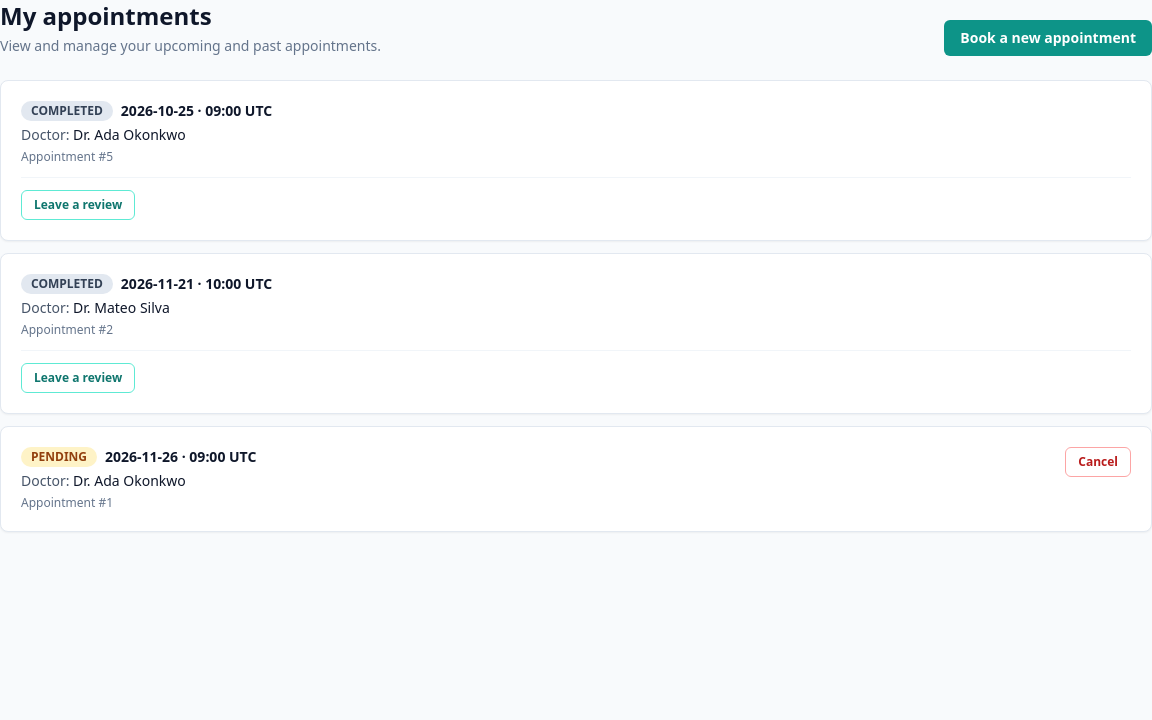
Scenario: MyAppointmentsPage › lets a patient review a completed appointment
Click the button with aria-label "leave a review for appointment 2" at (78,378), box [21,363,135,393]
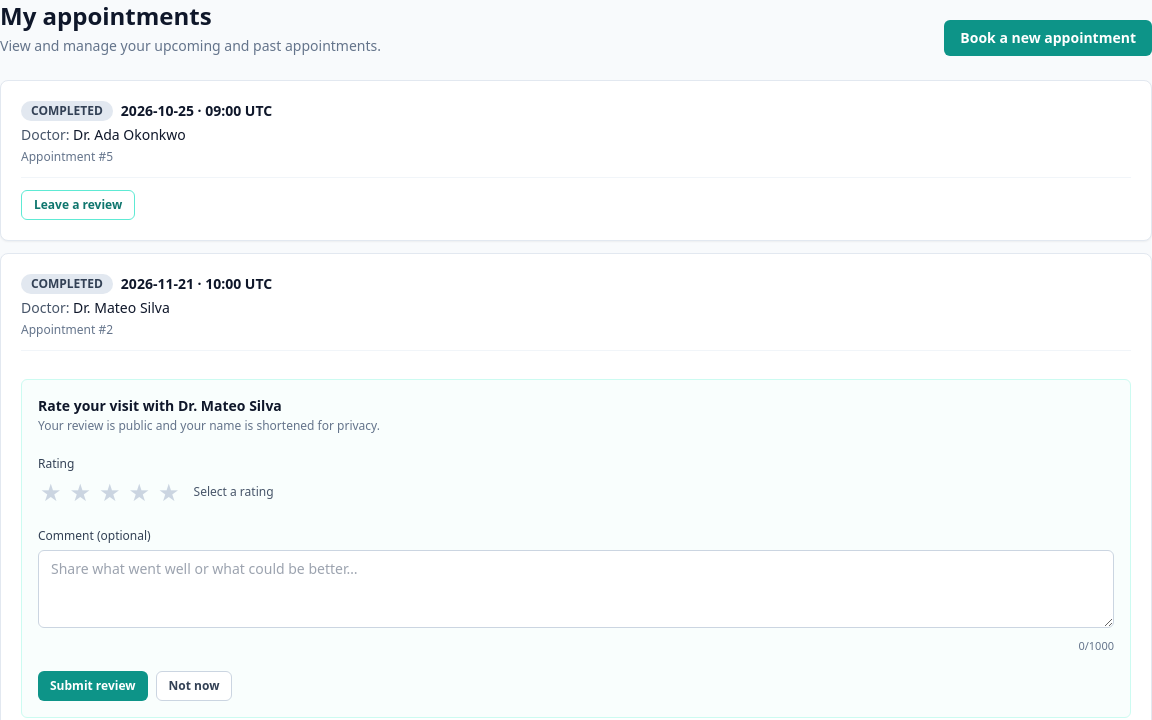
Expected: the form named "review appointment 2" is shown, [21,379,1131,718]
Click the button named "5 stars" at (169,492), box [156,478,182,506]
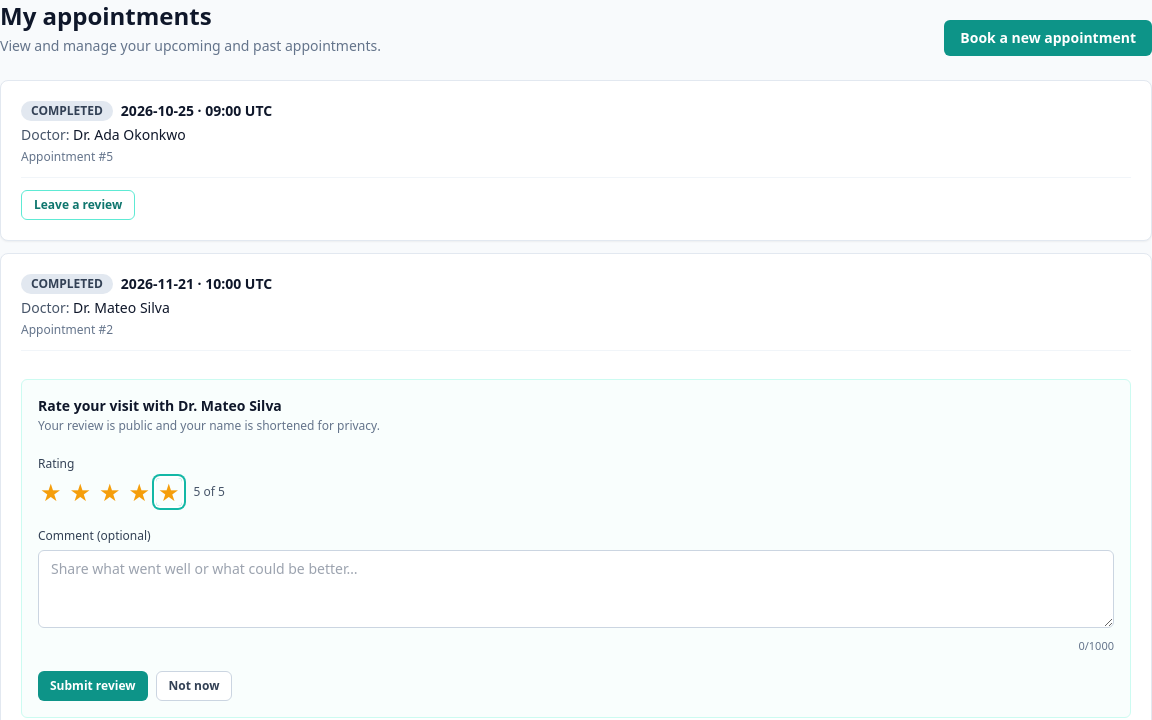
Type "Excellent care, thank you!" into the text box labelled "Comment (optional)" at (576,589), box [38,550,1114,628]
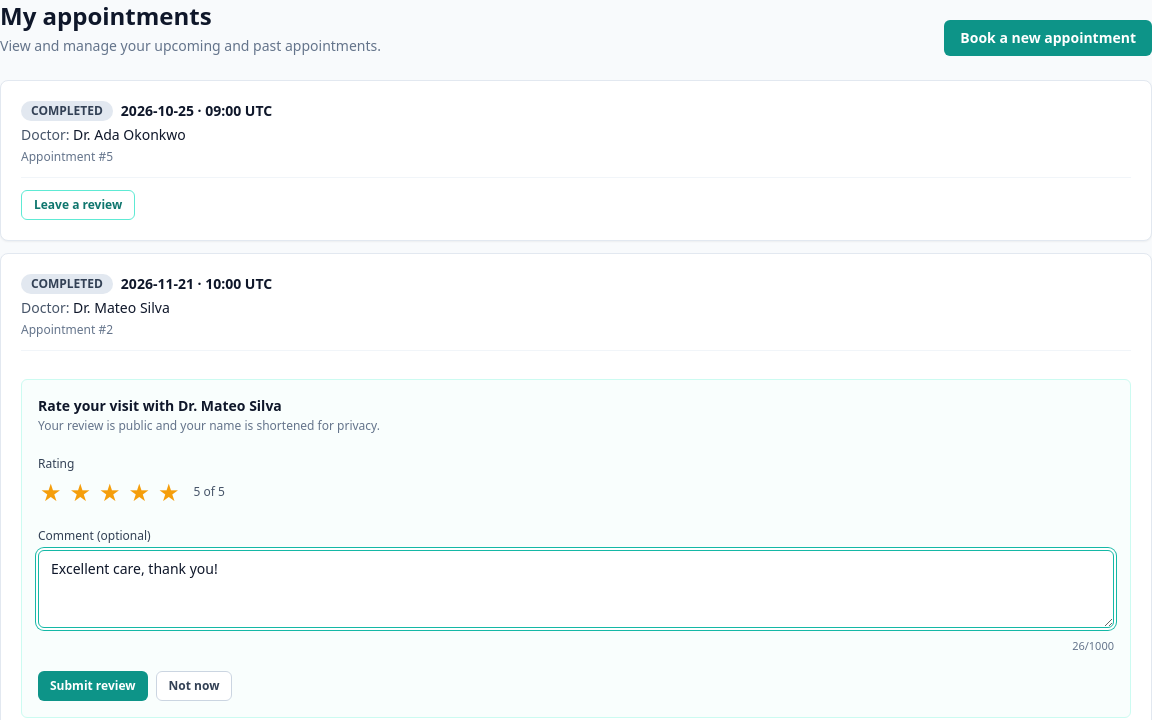
Click the button "Submit review" at (93,686), box [38,670,148,700]
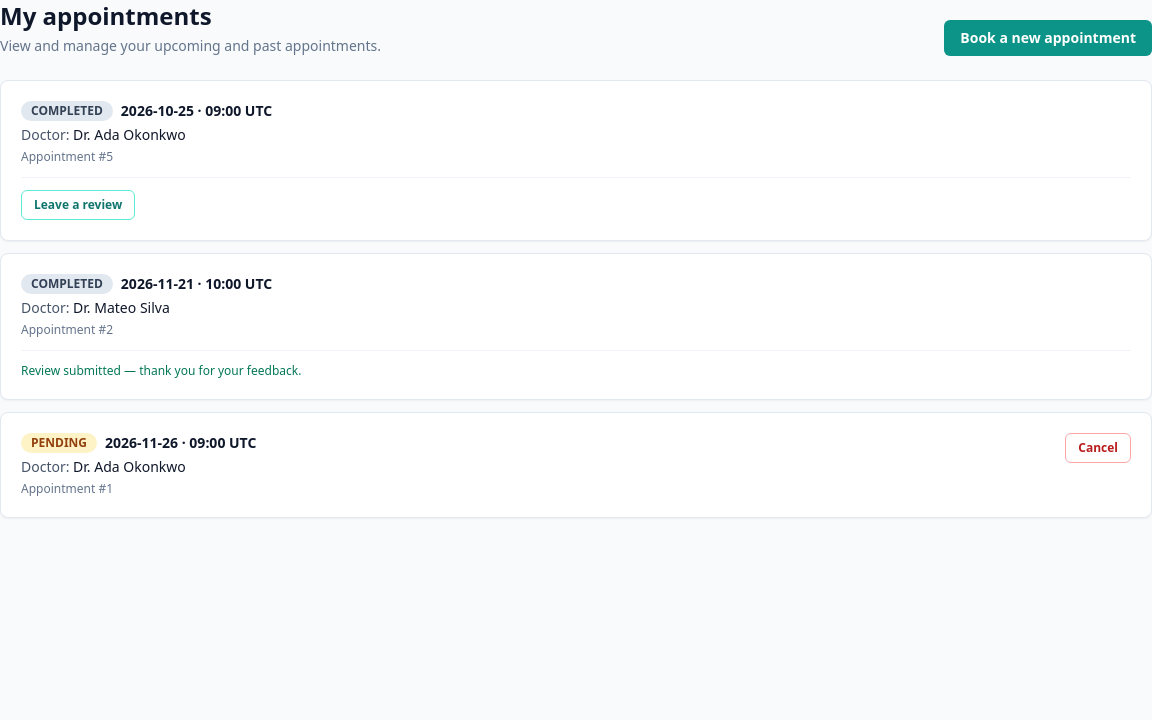
Expected: the text "Review submitted — thank you for your feedback." is shown, [21,362,301,379]
